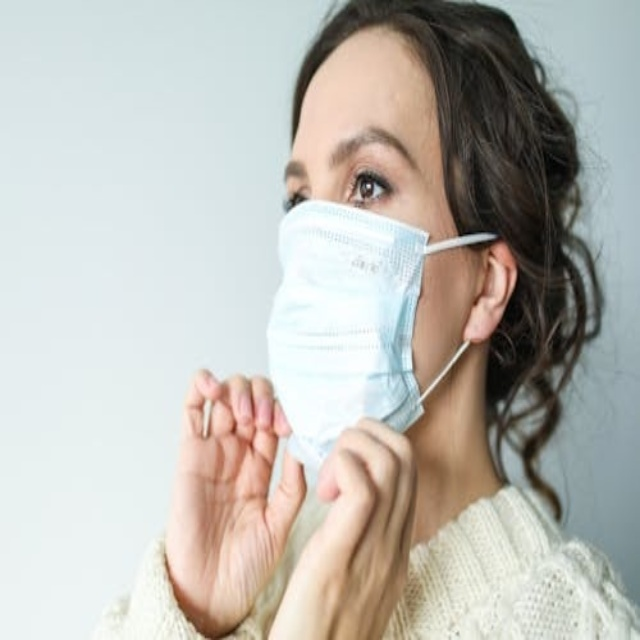Mascara: (268, 202, 495, 480)
Sin_gafas: (278, 121, 421, 215)
Sin_guantes: (262, 407, 435, 630), (157, 369, 307, 621)
